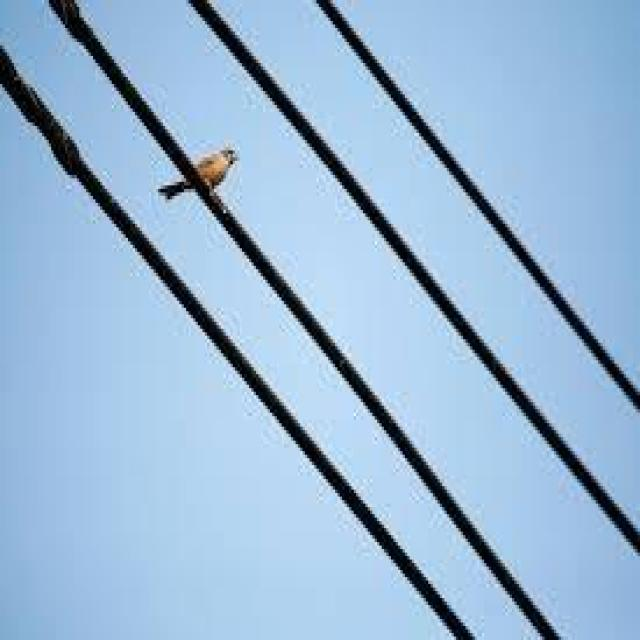bird: (158, 140, 236, 208)
